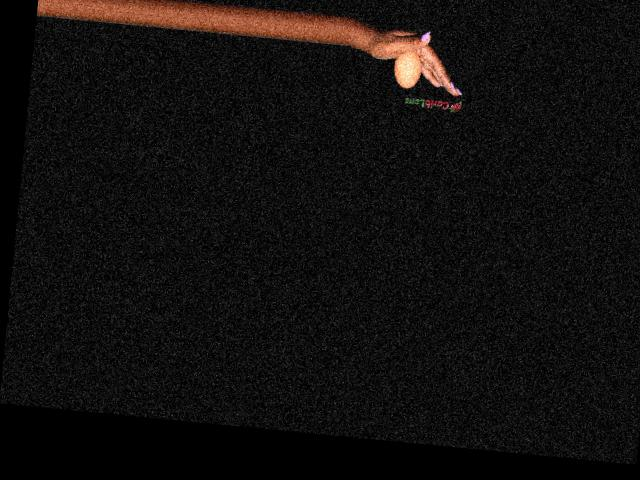egg: (391, 50, 423, 89)
